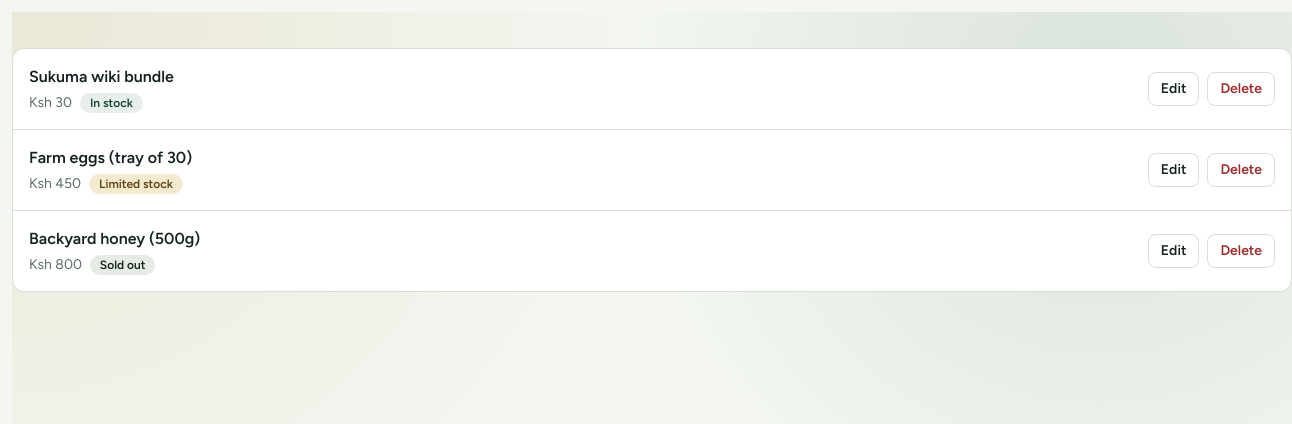
it: ProductManager › deletes a product after confirmation and announces it
Click the button named "Delete Farm eggs (tray of 30)" at (1241, 170), box [1207, 153, 1275, 187]
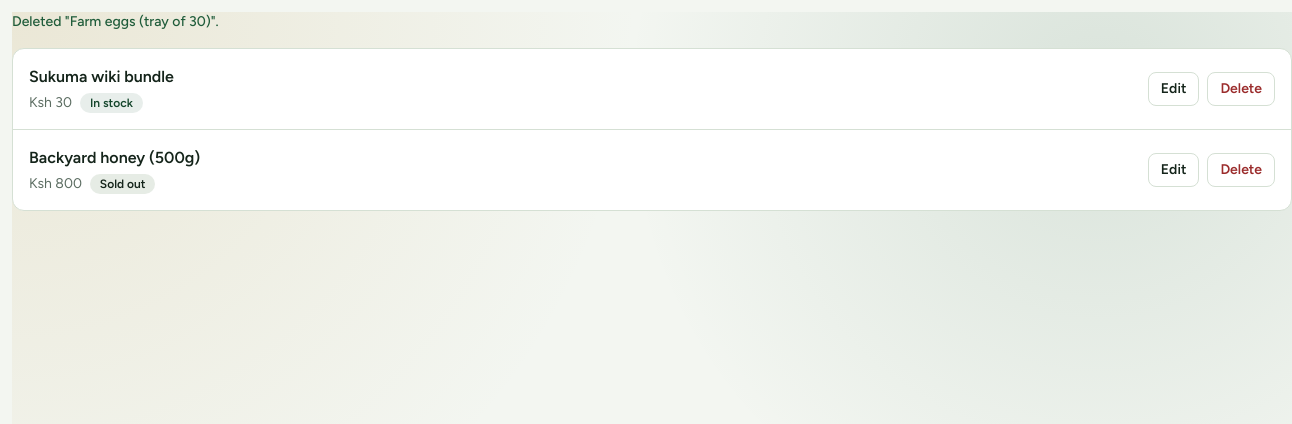
Result: the message reads "Deleted \"Farm eggs (tray of 30)\"." at [12, 13, 219, 30]
Result: the list "Delete Farm eggs (tray of 30)" is gone
